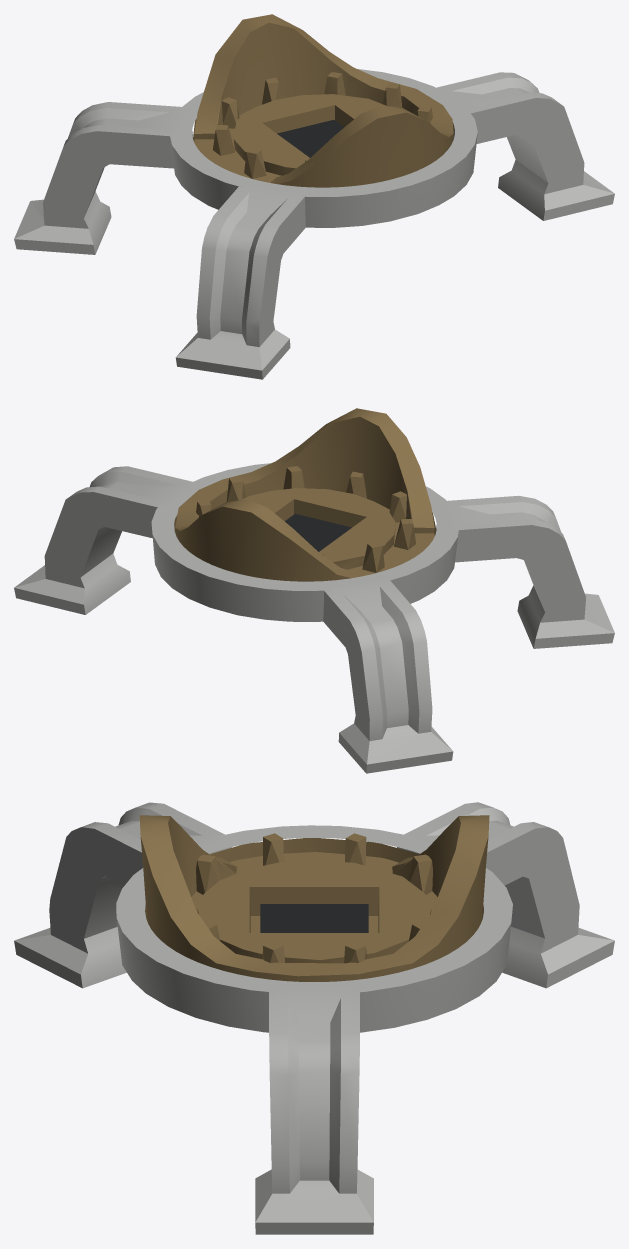
The model's file is stack-inserter-east.glb.
3 renders of one model, top to bottom at view 1: azimuth 30°, elevation 25°; view 2: azimuth 150°, elevation 25°; view 3: azimuth 270°, elevation 25°, orthographic. The views are drawn at different scales.
Visible parts, largest first — view 1: body; view 2: body; view 3: body.
Boxes of the visible parts, box(x1,y1,x2,y2) form: body: box(14, 14, 614, 379); body: box(14, 408, 614, 773); body: box(14, 802, 614, 1234).
Bounding box in the file's own units: 1.15 × 0.4164 × 0.9298.
